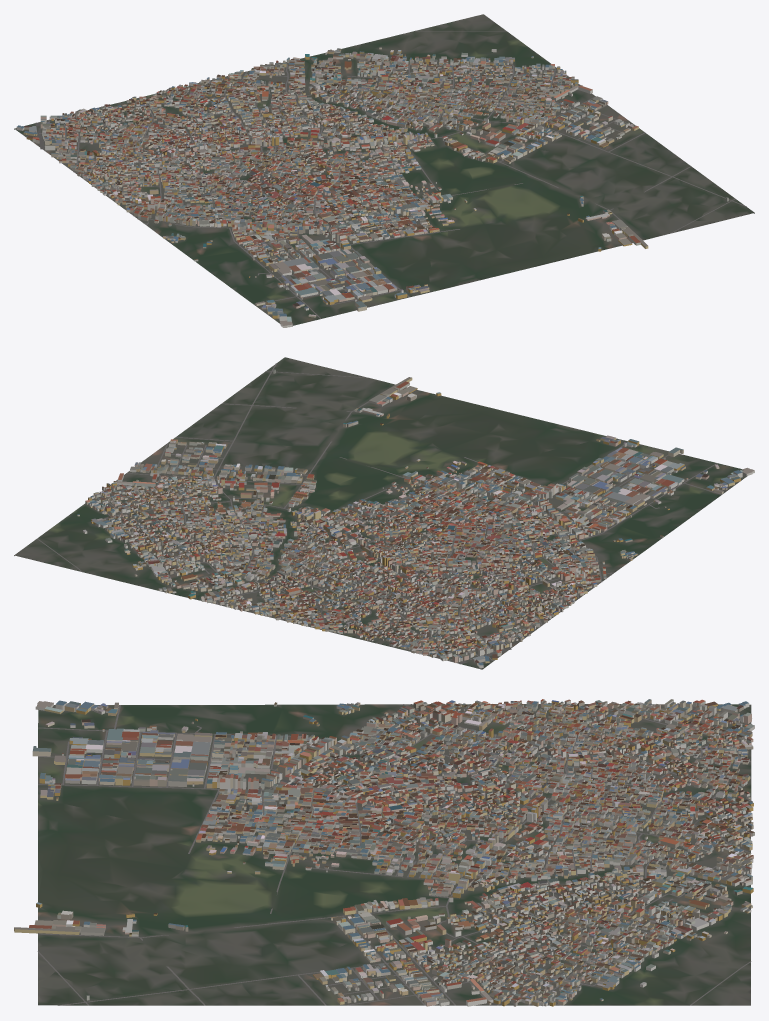
3 renders of one model, top to bottom at view 1: azimuth 30°, elevation 25°; view 2: azimuth 150°, elevation 25°; view 3: azimuth 270°, elevation 25°, orthographic. The views are drawn at different scales.
Visible parts, largest first — view 1: buildings, ground, roads; view 2: buildings, ground, roads; view 3: buildings, ground, roads.
Part boxes in pixels (x1,y1,x2,y2): buildings: [16, 47, 728, 327]; ground: [14, 14, 754, 325]; roads: [26, 30, 746, 318]; buildings: [77, 369, 754, 668]; ground: [14, 357, 747, 669]; roads: [37, 363, 721, 664]; buildings: [14, 699, 754, 1006]; ground: [38, 704, 751, 1005]; roads: [37, 703, 751, 1005].
Bounding box in the file's own units: 1411 × 30.52 × 1457.
